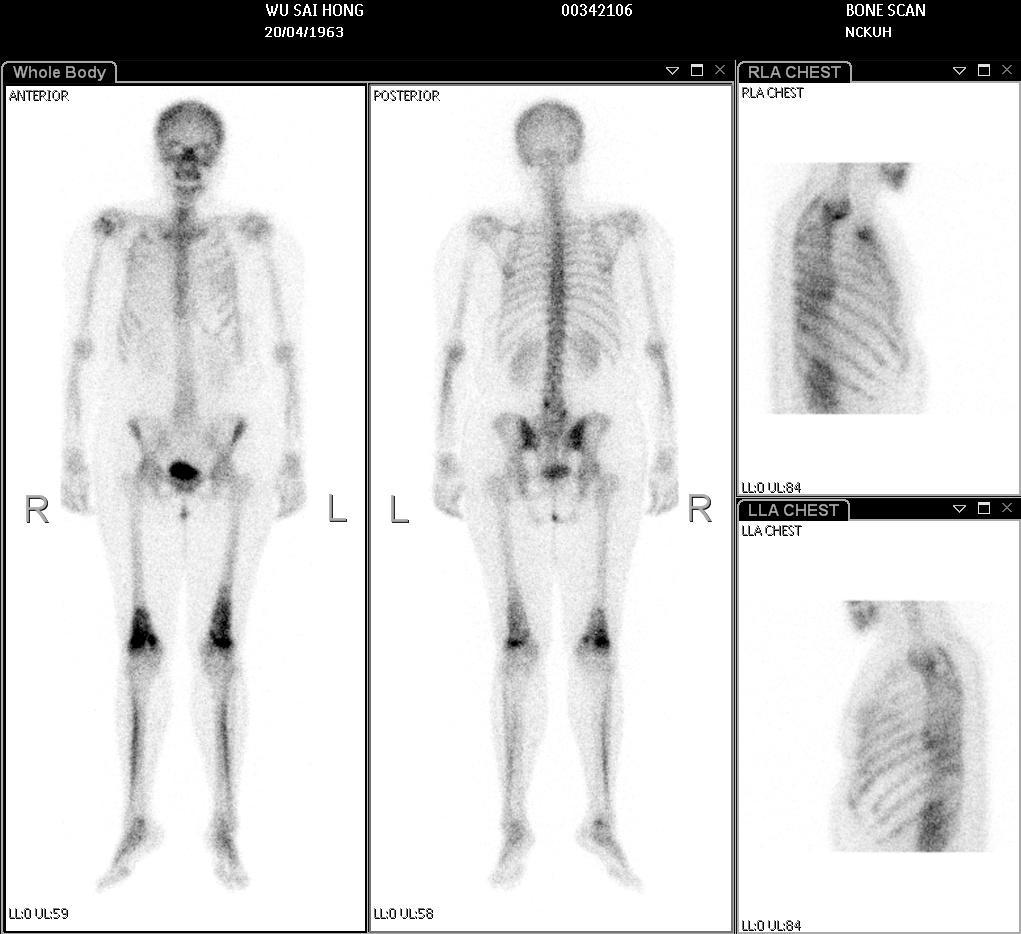person: (4, 84, 730, 929)
